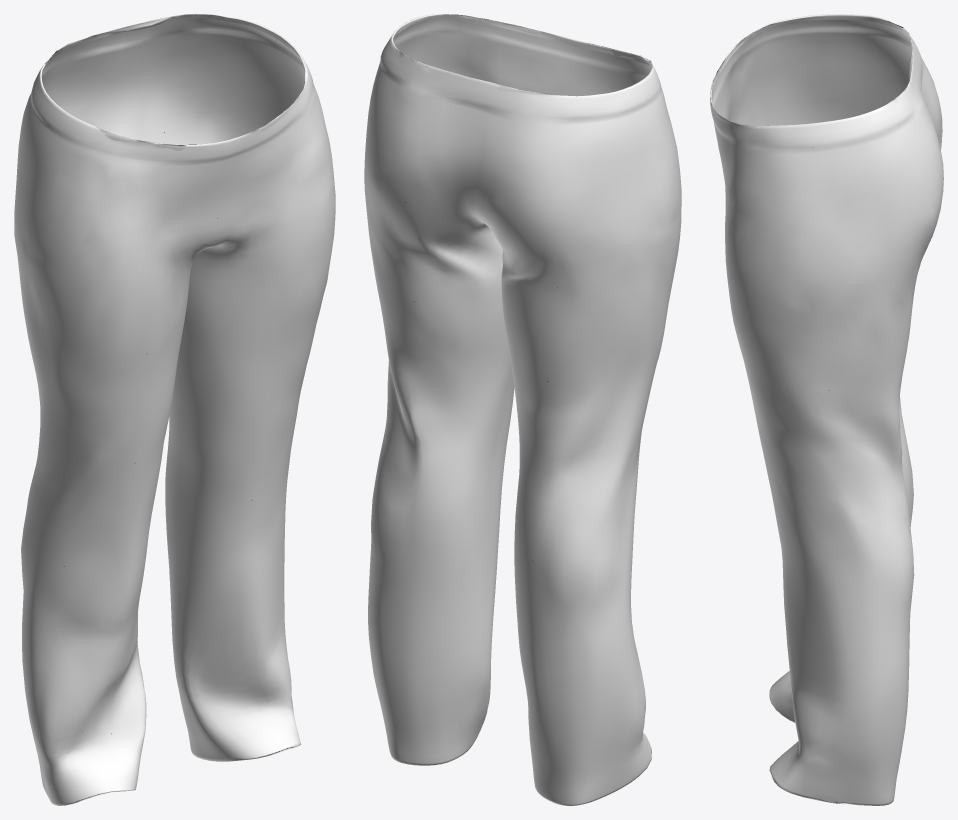
File: Pants.glb
3 views of the same model, side by side, from view 1: azimuth 30°, elevation 25°; view 2: azimuth 150°, elevation 25°; view 3: azimuth 270°, elevation 25° (orthographic). The views are drawn at different scales.
Parts seen in each view (by area): view 1: NewportPants_6521.002; view 2: NewportPants_6521.002; view 3: NewportPants_6521.002.
Part boxes in pixels (x1=…): NewportPants_6521.002: x1=14, y1=14, x2=335, y2=805; NewportPants_6521.002: x1=364, y1=14, x2=681, y2=805; NewportPants_6521.002: x1=710, y1=14, x2=943, y2=805.
Bounding box in the file's own units: 8.25 × 19.76 × 5.93.
Materials: 1 (1 with a texture image).
